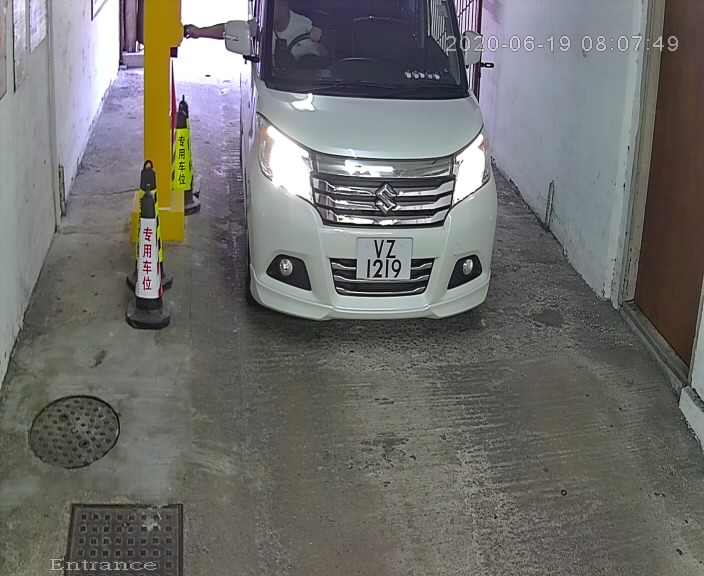bottom_left_lp: (352, 273, 359, 280)
bottom_left_radiator: (322, 214, 331, 227)
bottom_left_windshield: (260, 77, 271, 88)
bottom_right_lp: (404, 273, 412, 282)
bottom_right_radiator: (436, 220, 450, 231)
bottom_right_windshield: (459, 82, 473, 96)
brand: (373, 183, 398, 213)
left_headlight: (264, 122, 315, 205)
right_headlight: (449, 130, 496, 205)
top_left_lp: (355, 234, 358, 242)
top_left_radiator: (313, 155, 324, 165)
top_left_windshield: (260, 1, 271, 7)
top_right_lp: (408, 234, 414, 242)
top_right_radiator: (443, 153, 457, 164)
top_right_windshield: (443, 1, 457, 8)
